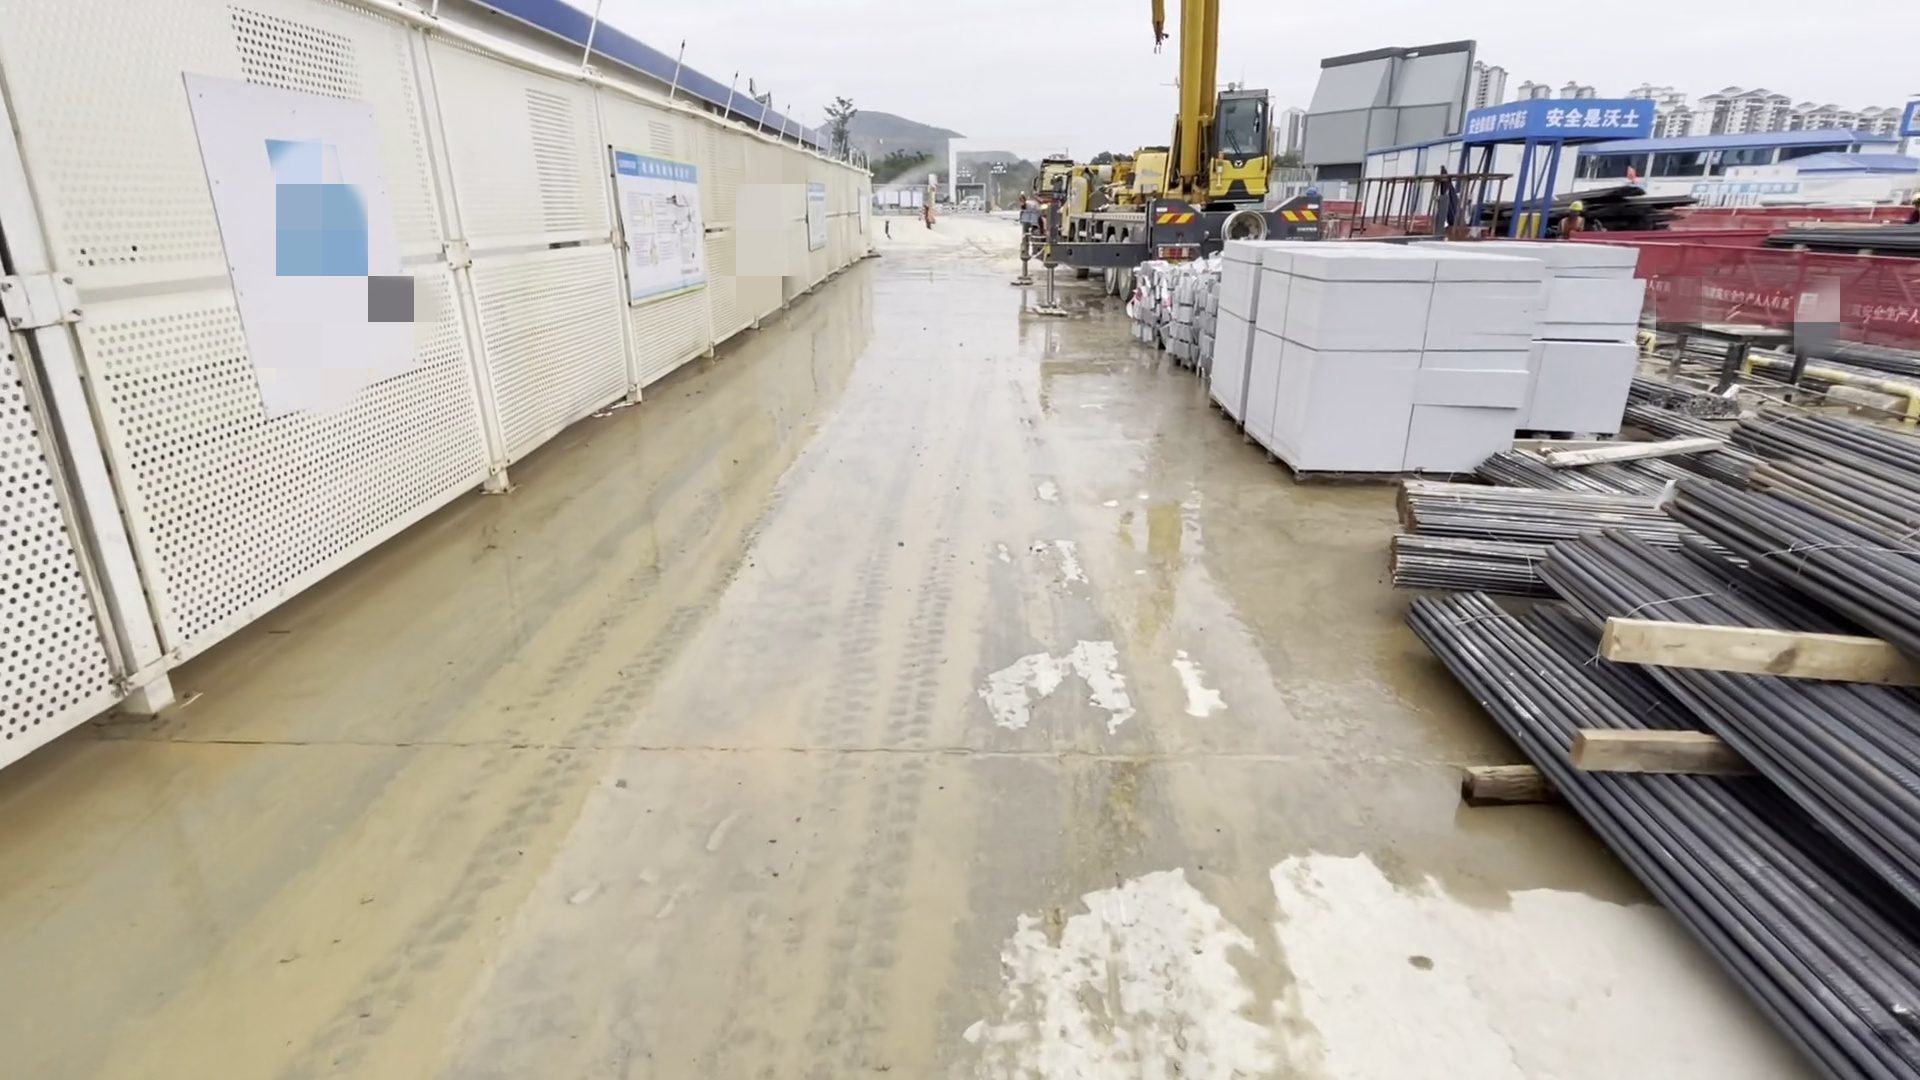brick: (1208, 237, 1648, 488)
slogan: (595, 142, 719, 316), (1447, 102, 1648, 152)
